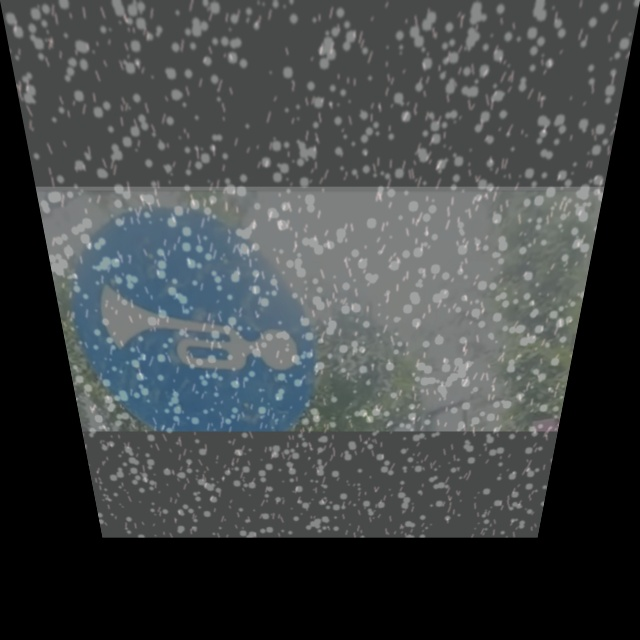Compulsory_Sound_Horn: (65, 212, 321, 425)
